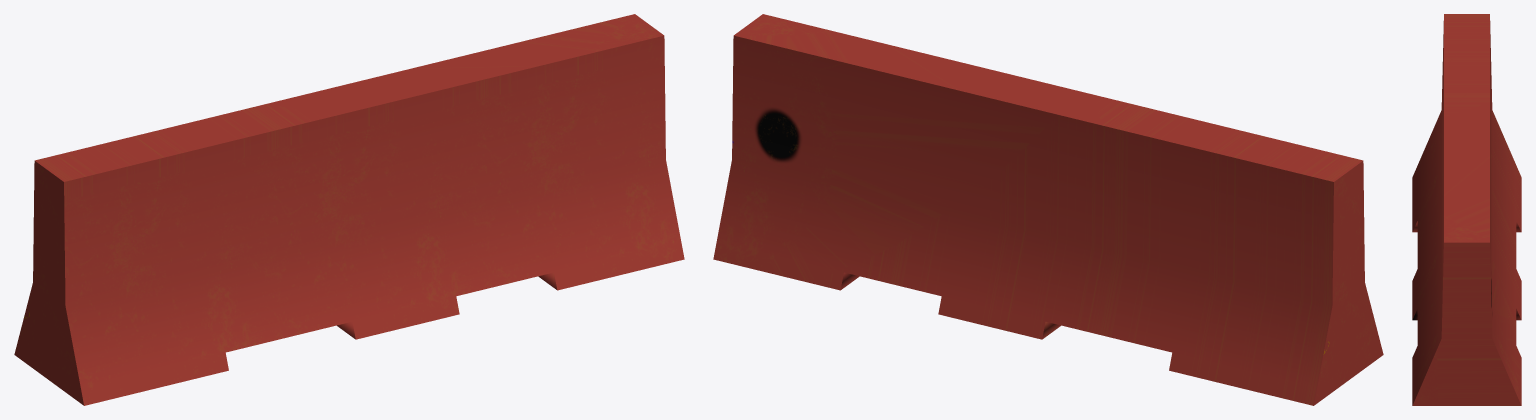
File: CinderBlock.fbx
3 renders of one model, left to right at view 1: azimuth 30°, elevation 25°; view 2: azimuth 150°, elevation 25°; view 3: azimuth 270°, elevation 25°, orthographic. The views are drawn at different scales.
Visible parts, largest first — view 1: RoadBlock_high1; view 2: RoadBlock_high1; view 3: RoadBlock_high1.
Boxes of the visible parts, left/top/right/bottom form: RoadBlock_high1: left=14, top=14, right=684, bottom=405; RoadBlock_high1: left=713, top=14, right=1383, bottom=405; RoadBlock_high1: left=1412, top=14, right=1521, bottom=405.
Bounding box in the file's own units: 210 × 70.05 × 42.4.
